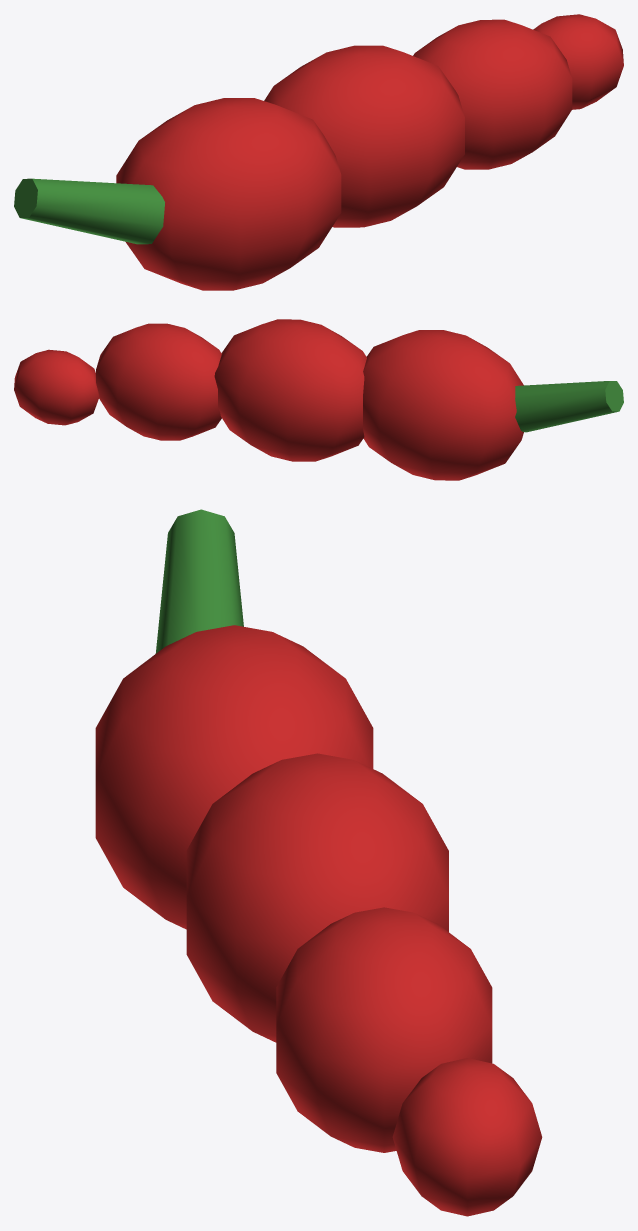
File: chilli.glb
3 views of the same model, one above another, from view 1: azimuth 30°, elevation 25°; view 2: azimuth 150°, elevation 25°; view 3: azimuth 270°, elevation 25° (orthographic). The views are drawn at different scales.
Visible parts, largest first — view 1: chilli; view 2: chilli; view 3: chilli.
Boxes of the visible parts, <box> form: chilli: <box>14,14,623,290</box>; chilli: <box>14,319,623,480</box>; chilli: <box>95,509,542,1216</box>.
Bounding box in the file's own units: 0.7469 × 0.18 × 0.2684.
